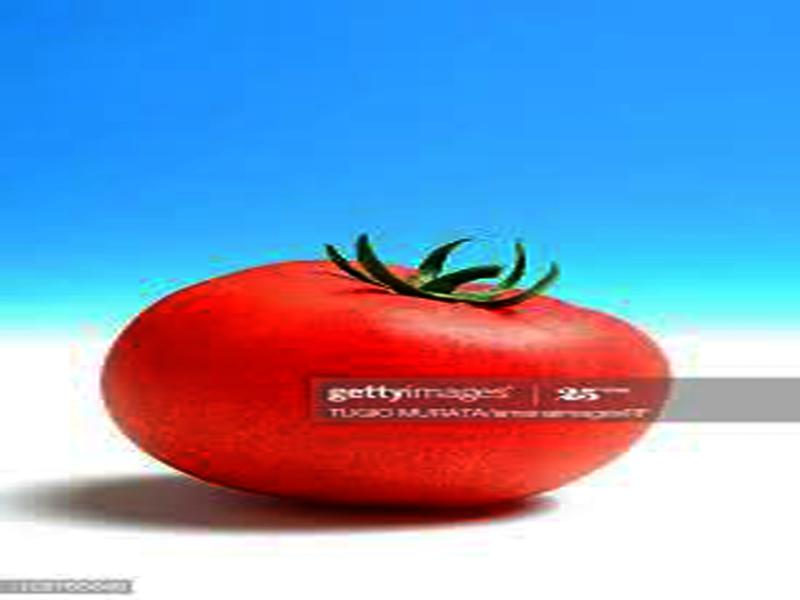Tomato: (105, 261, 673, 504)
